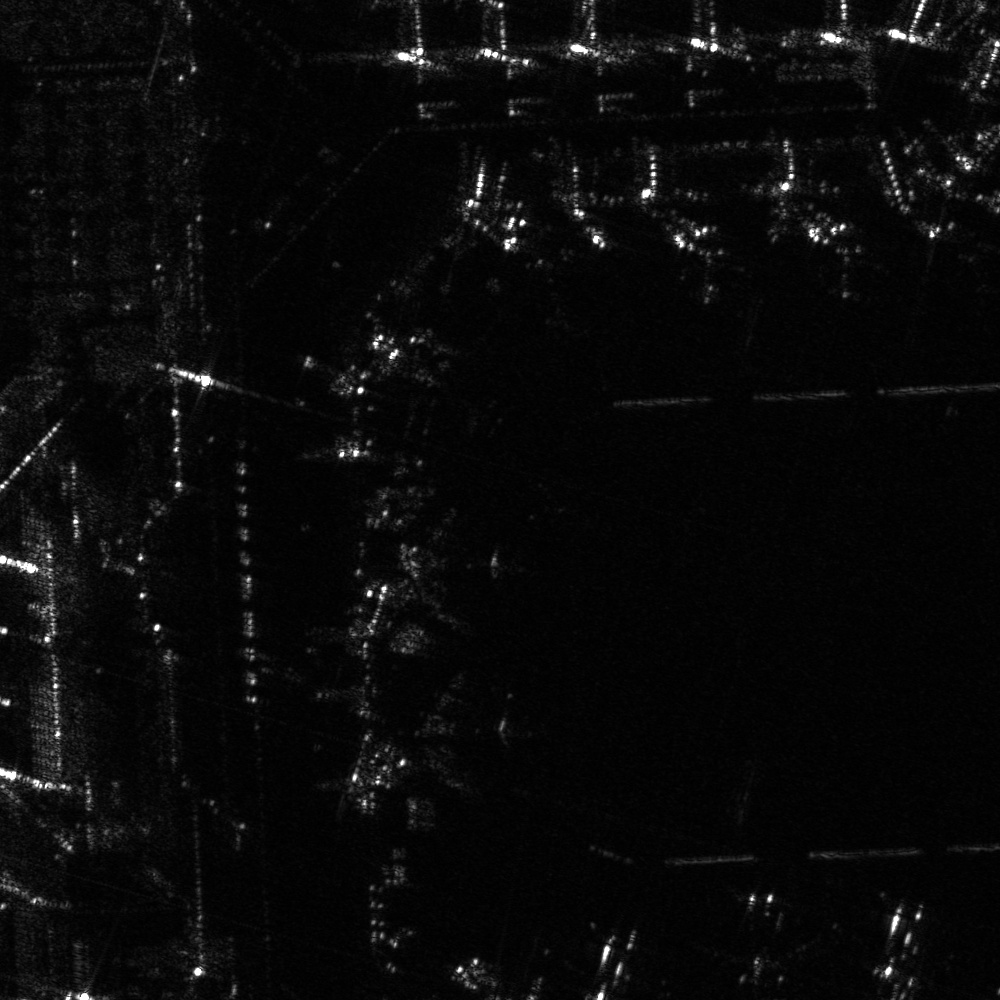A320/321: (347, 507, 501, 634), (355, 671, 512, 795), (814, 222, 884, 302)
Boeing787: (673, 227, 746, 312)
